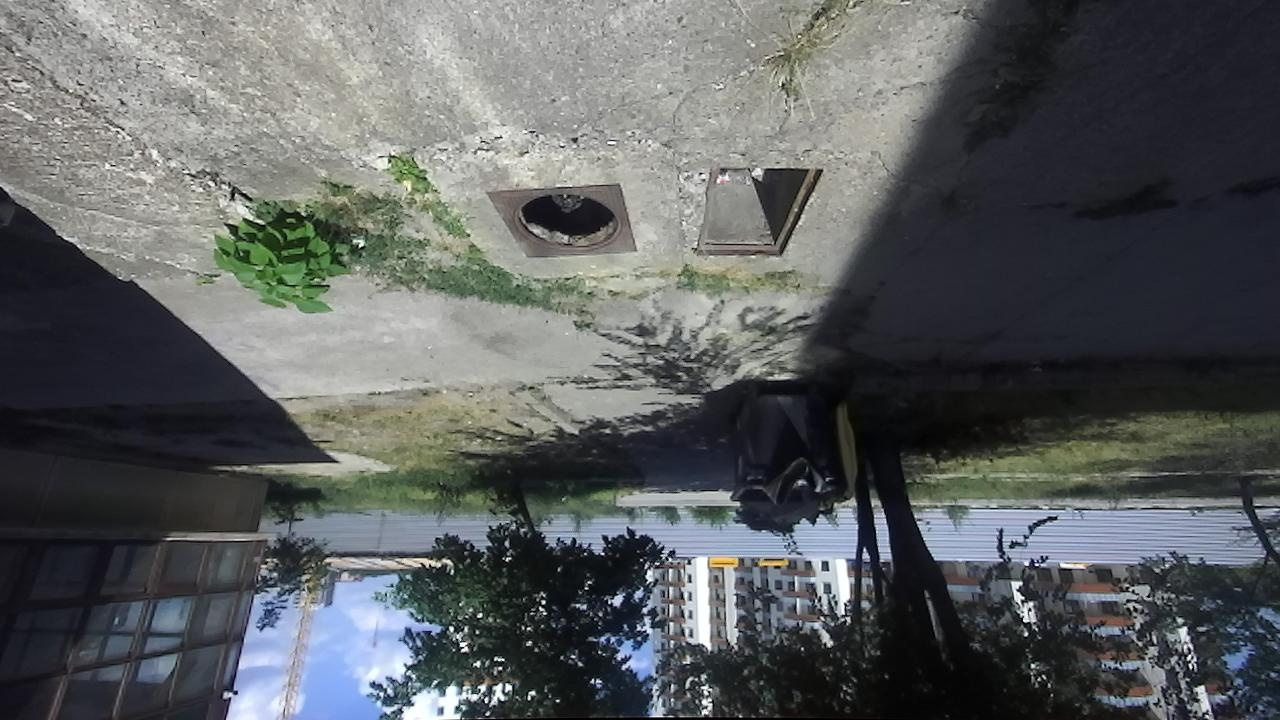drain: (689, 158, 824, 264), (508, 188, 624, 253)
